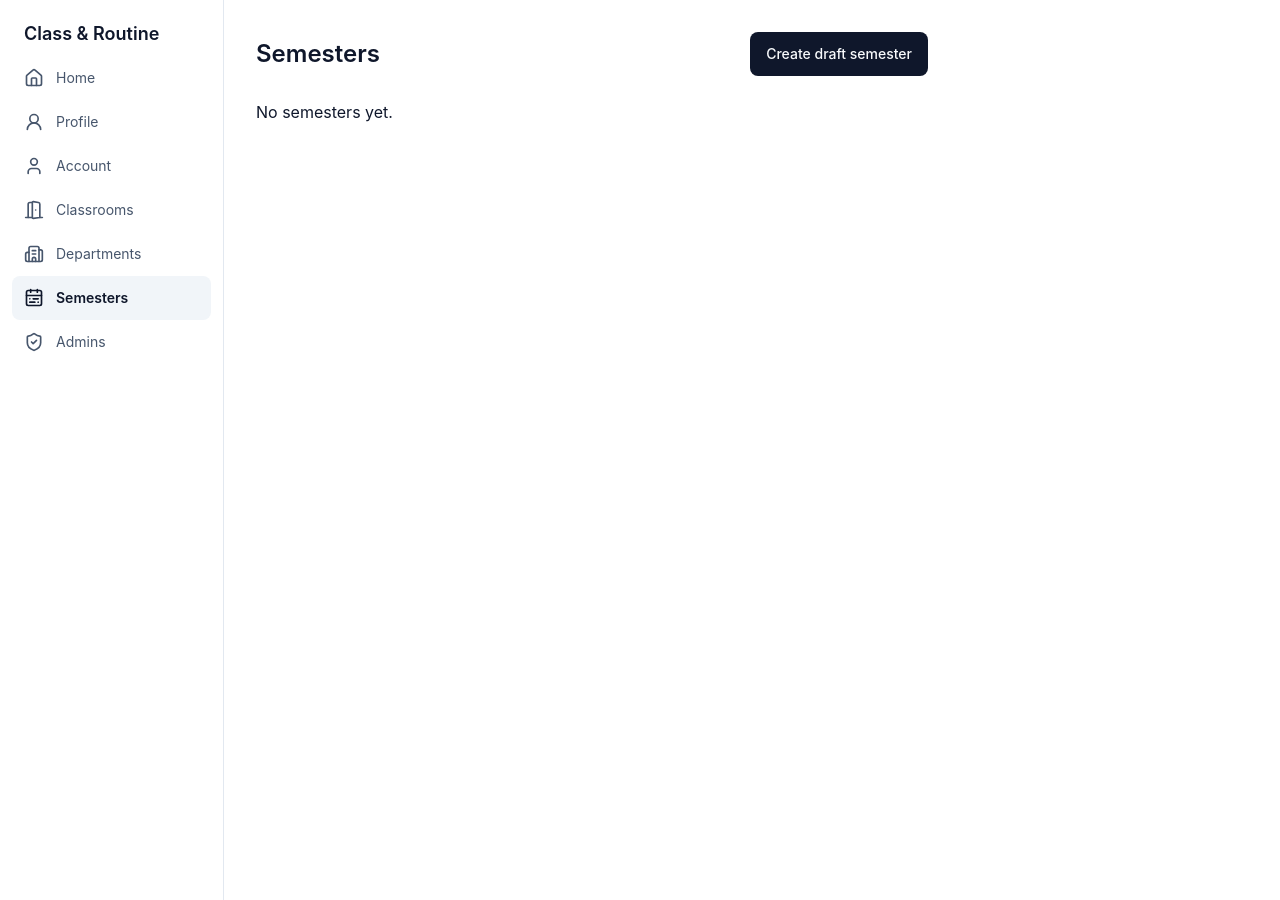
Test: semesters screens (spec 04) › SEM-01 a super admin creates a draft and sees the server error for a second one
Click the button "Create draft semester" at (839, 54), box top-left (750, 32), bottom-right (928, 76)
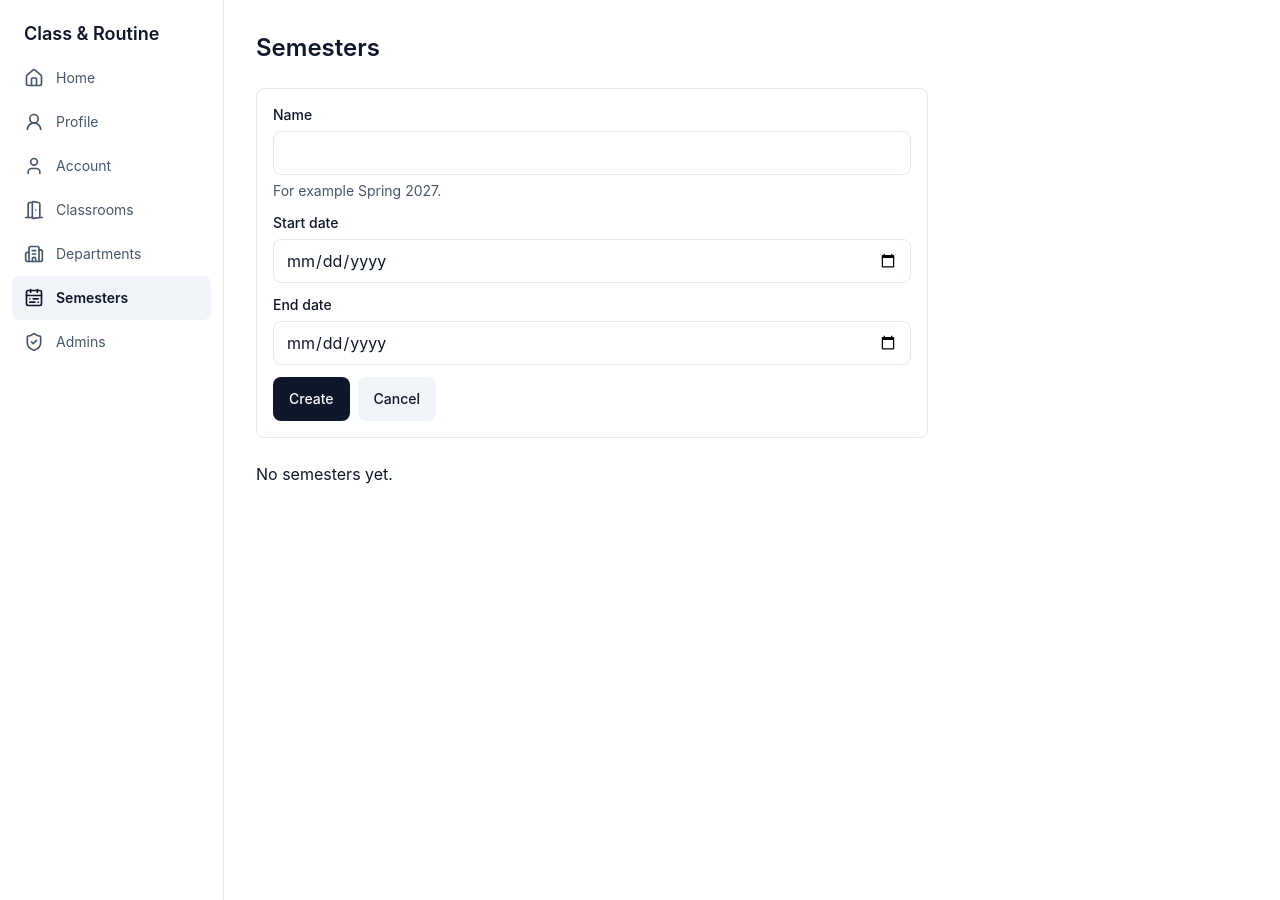
Type "Spring 2027" into the field labelled "Name" at (592, 153), box top-left (273, 131), bottom-right (911, 175)
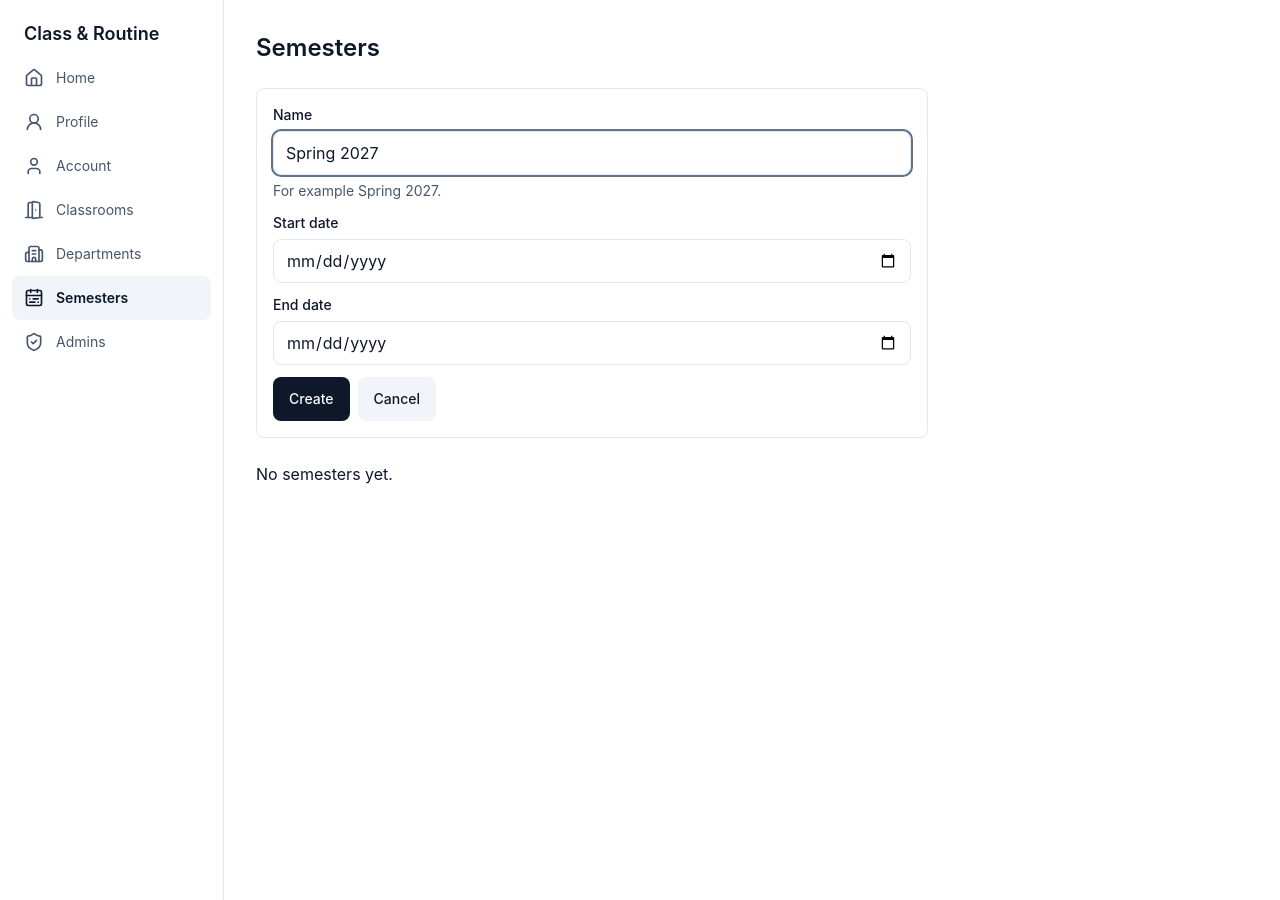
Type "2027-04-04" into the date field labelled "Start date" at (592, 261), box top-left (273, 239), bottom-right (911, 283)
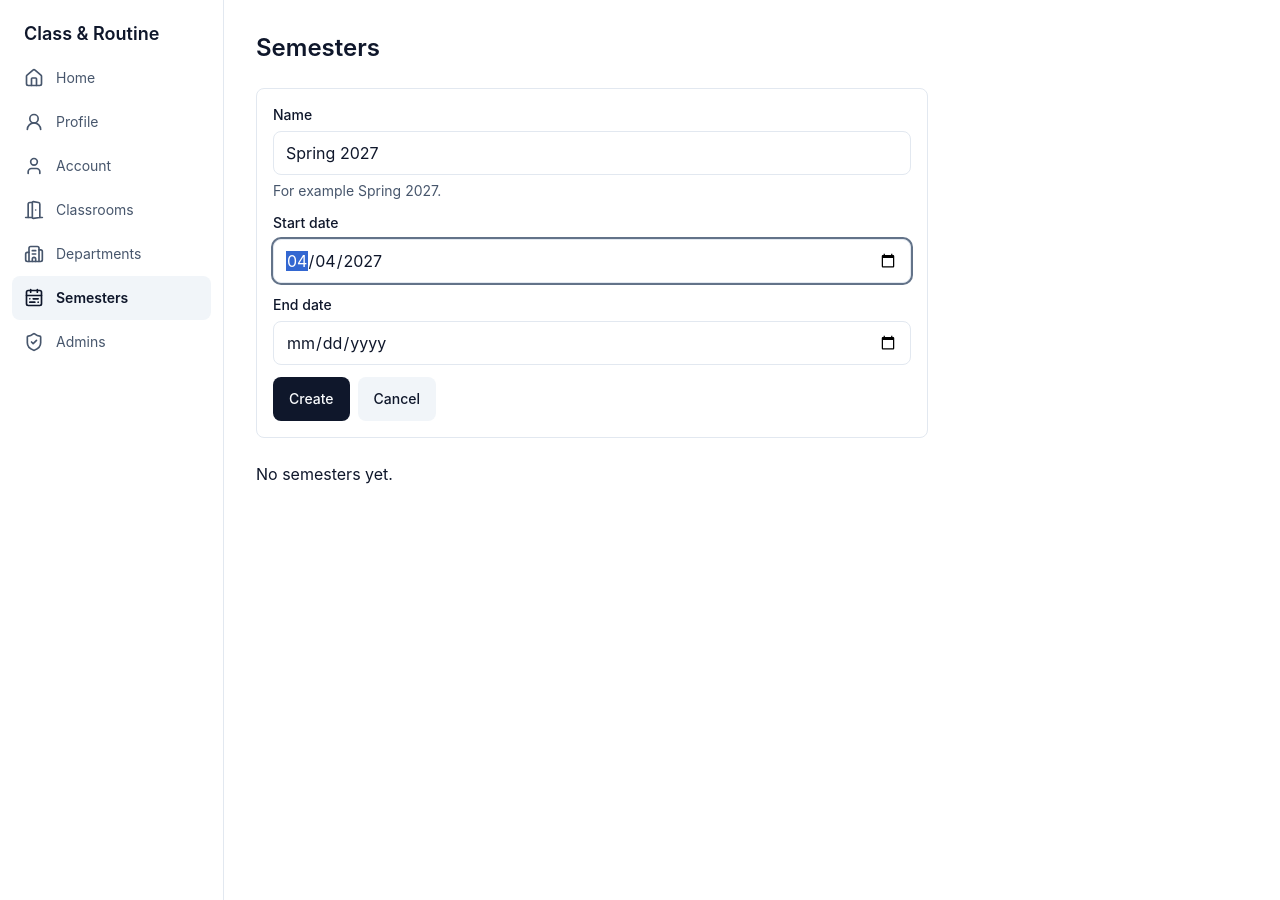
Type "2027-09-30" into the date field labelled "End date" at (592, 343), box top-left (273, 321), bottom-right (911, 365)
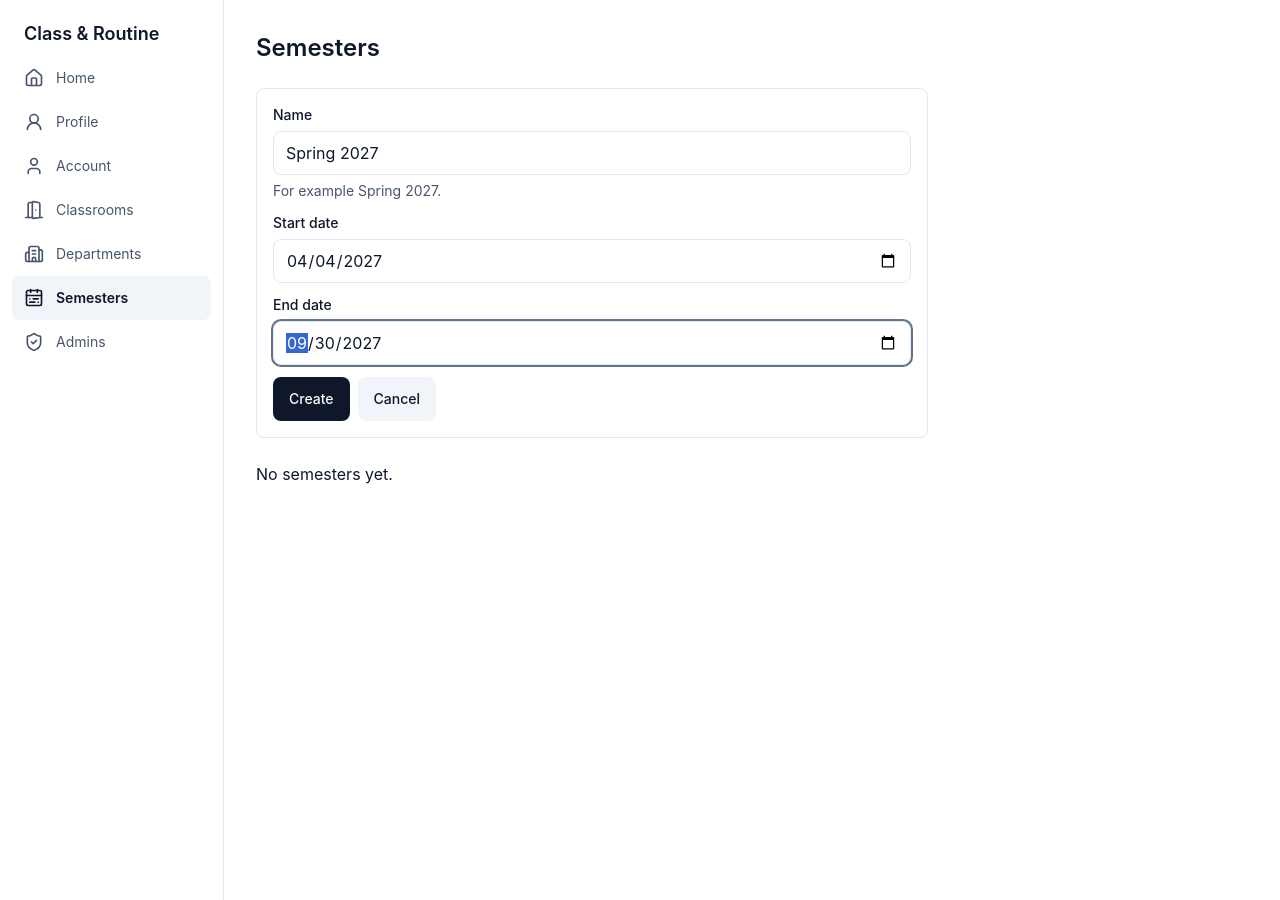
Click the button "Create" at (311, 399), box top-left (273, 377), bottom-right (350, 421)
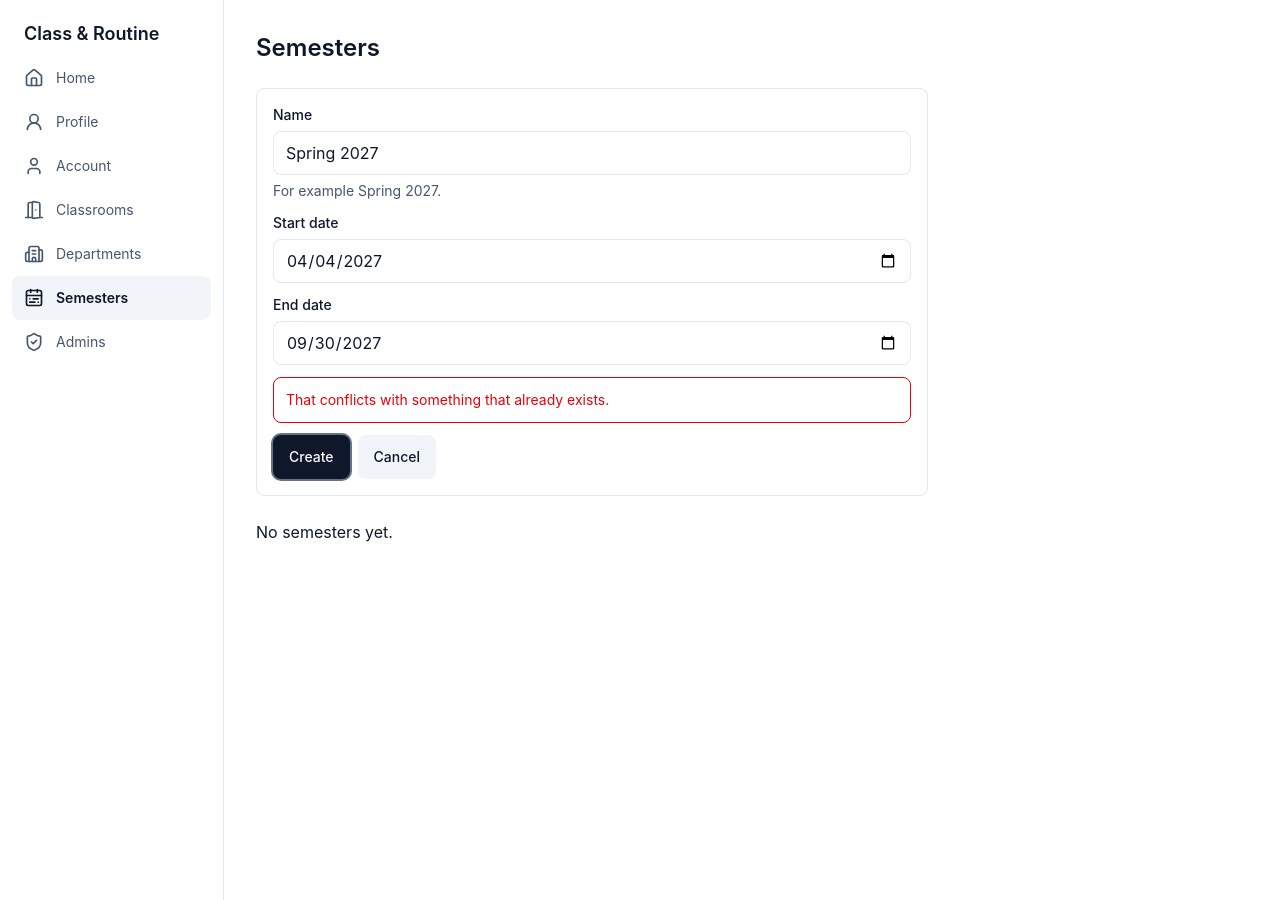
Expected: the text "That conflicts with something that already exists." is shown, top-left (273, 377), bottom-right (911, 423)
